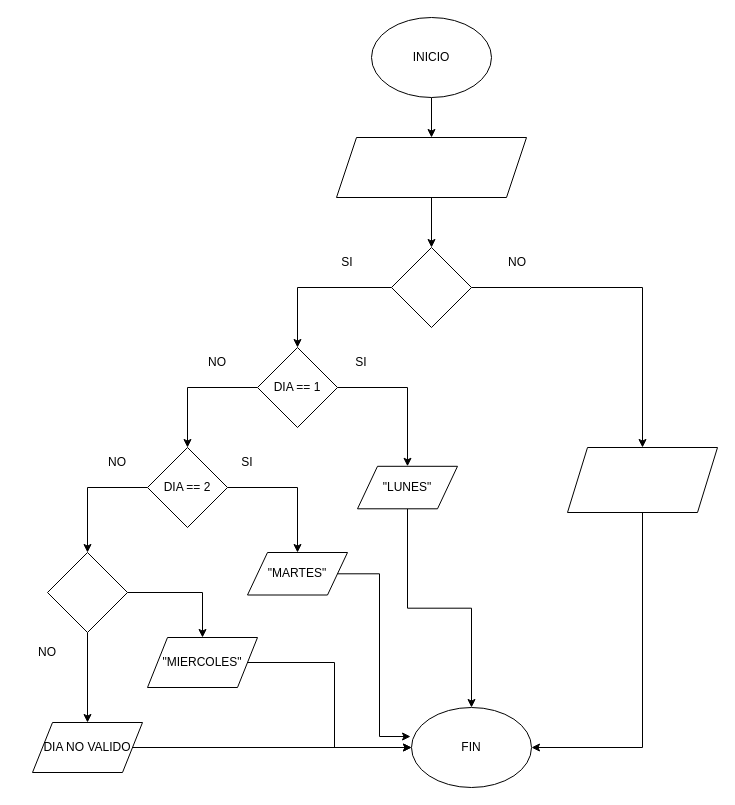
This 735x805 diagram has some shape labels left out. The shapes that lost their labels are listed below. From the top down, each one's centre as x and y in pixels, then its label:
point (431, 167): INGRESA N° DE DIA ( 1 AL 7 )
point (431, 287): DIA VALIDO
point (642, 479): "INGRESE VALOR ENTRE 1 A 7"
point (87, 592): DIA = 3
